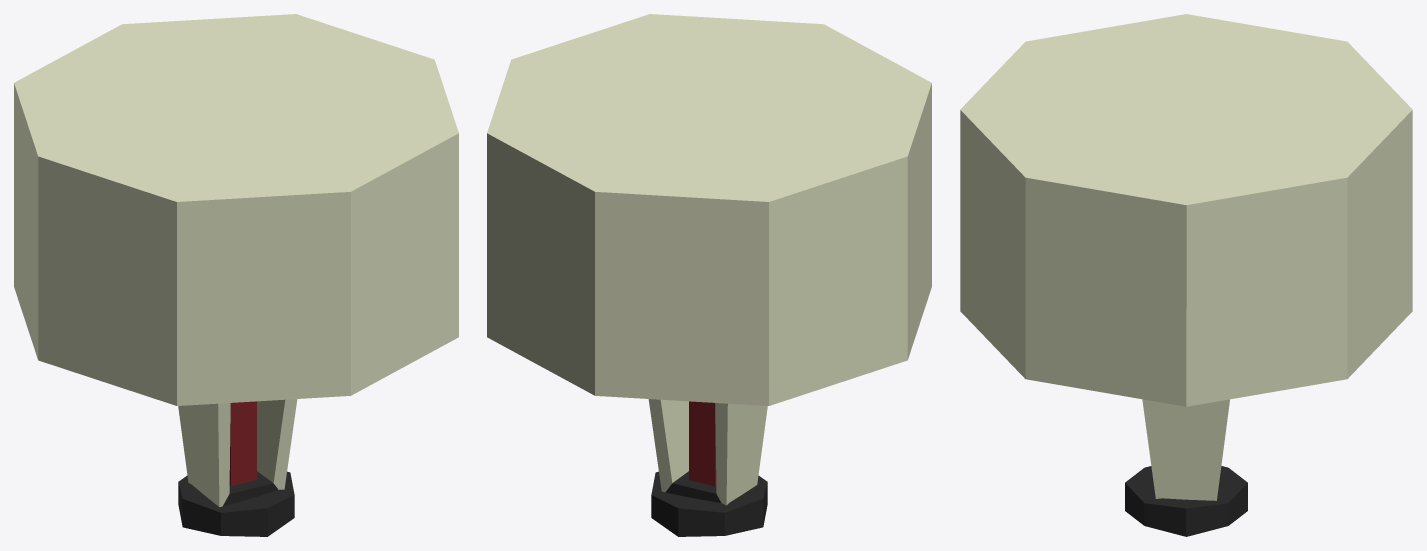
The model's file is FireExt.fbx.
3 views of the same model, side by side, from view 1: azimuth 30°, elevation 25°; view 2: azimuth 150°, elevation 25°; view 3: azimuth 270°, elevation 25° (orthographic).
Parts seen in each view (by area): view 1: FireExt; view 2: FireExt; view 3: FireExt.
Boxes of the visible parts, bbox=[...] form: FireExt: bbox=[14, 14, 458, 536]; FireExt: bbox=[487, 14, 931, 536]; FireExt: bbox=[960, 14, 1412, 536].
Bounding box in the file's own units: 5.36 × 5.24 × 5.36.
